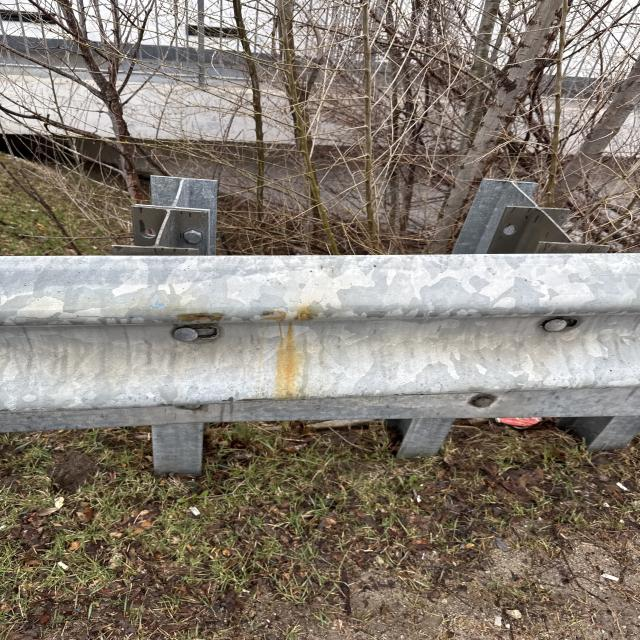Guard rail: (25, 219, 634, 433)
